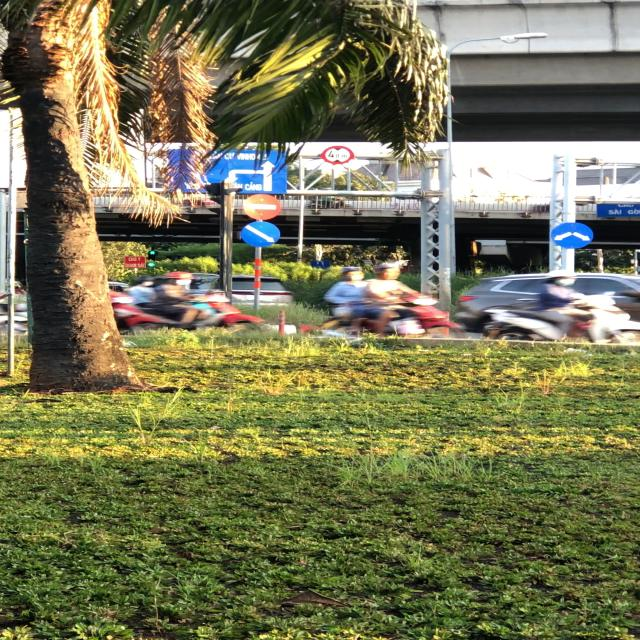Bien bao cam di nguoc chieu: (238, 190, 282, 220)
Bien bao han che chieu cao: (319, 144, 356, 165)
Bien bao huong phai di vong chuong ngai vat: (233, 220, 285, 250), (546, 220, 598, 250)
